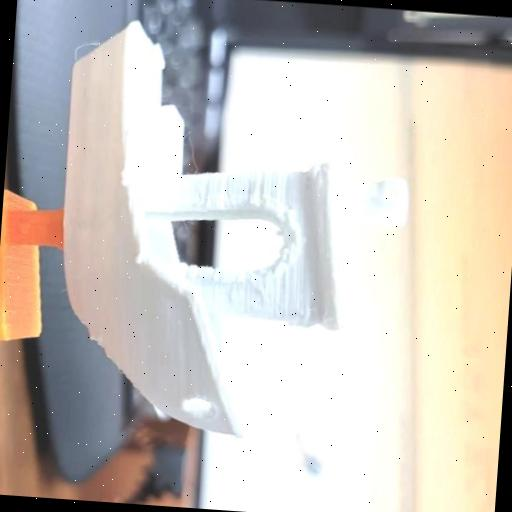blobs: (116, 162, 134, 189), (130, 248, 144, 266)
